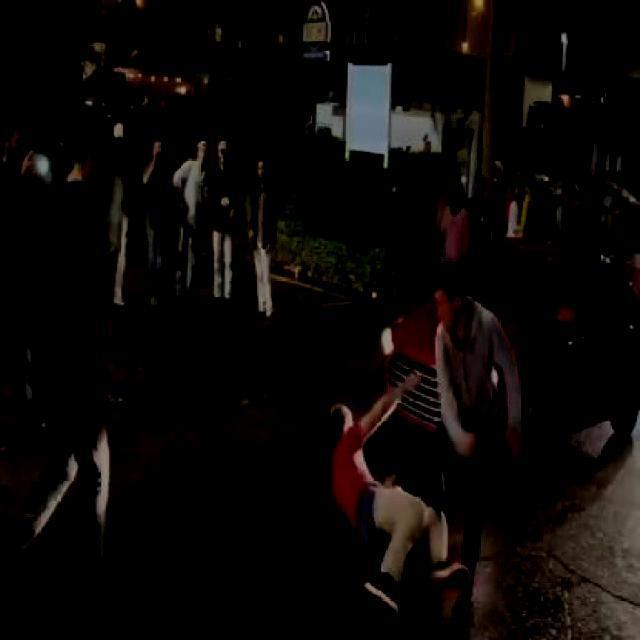fight: (326, 266, 526, 639)
